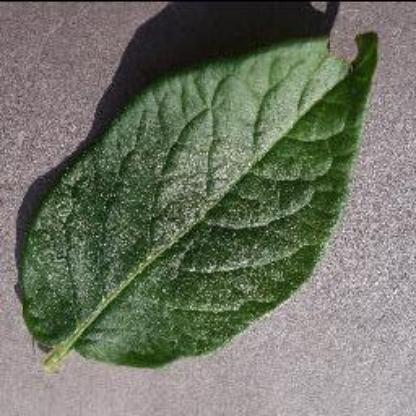Healthy-plant: (18, 21, 390, 413)
